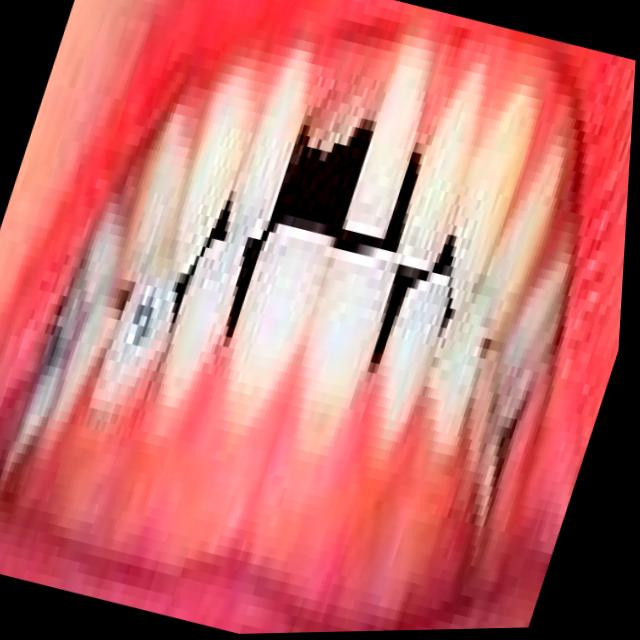hypodontia: (259, 40, 403, 229)
